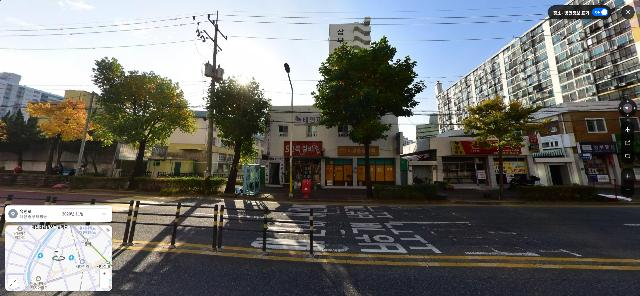ginkgo: (26, 96, 103, 175)
other: (309, 36, 426, 198), (84, 57, 201, 190), (459, 95, 552, 201), (200, 73, 278, 196)
